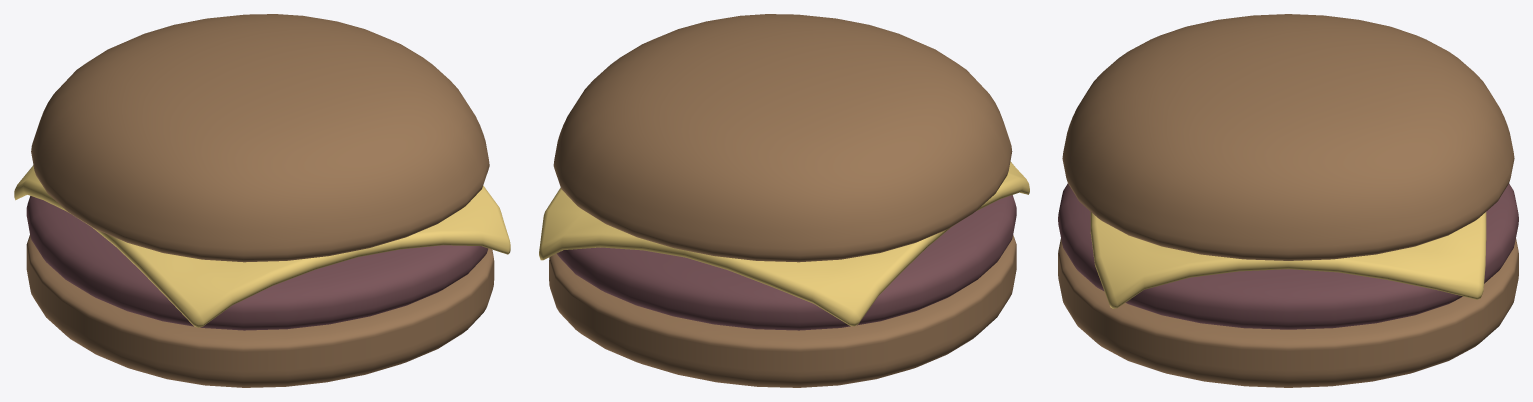
File: burger.glb
3 views of the same model, side by side, from view 1: azimuth 30°, elevation 25°; view 2: azimuth 150°, elevation 25°; view 3: azimuth 270°, elevation 25° (orthographic).
Visible parts, largest first — view 1: TopBun, BottomBun, Patty, Cheese; view 2: TopBun, BottomBun, Patty, Cheese; view 3: TopBun, BottomBun, Patty, Cheese.
Part boxes in pixels (<box>): TopBun: <box>31,14,489,262</box>; BottomBun: <box>26,235,494,387</box>; Patty: <box>26,196,488,330</box>; Cheese: <box>14,165,510,327</box>; TopBun: <box>553,14,1012,262</box>; BottomBun: <box>549,235,1016,387</box>; Patty: <box>556,195,1016,330</box>; Cheese: <box>539,161,1029,326</box>; TopBun: <box>1062,14,1514,260</box>; BottomBun: <box>1058,239,1518,387</box>; Patty: <box>1058,183,1518,329</box>; Cheese: <box>1090,212,1486,308</box>.
Bounding box in the file's own units: 3.67 × 2.26 × 3.67.
